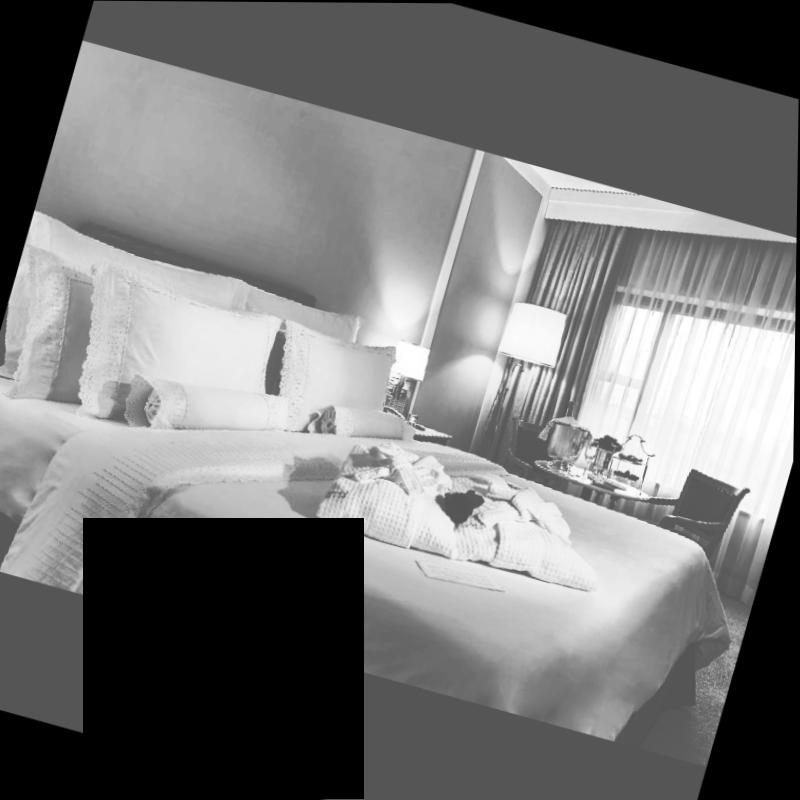pillow: (0, 208, 268, 426), (46, 254, 301, 454), (0, 249, 129, 420), (221, 282, 370, 428), (248, 308, 406, 435)
